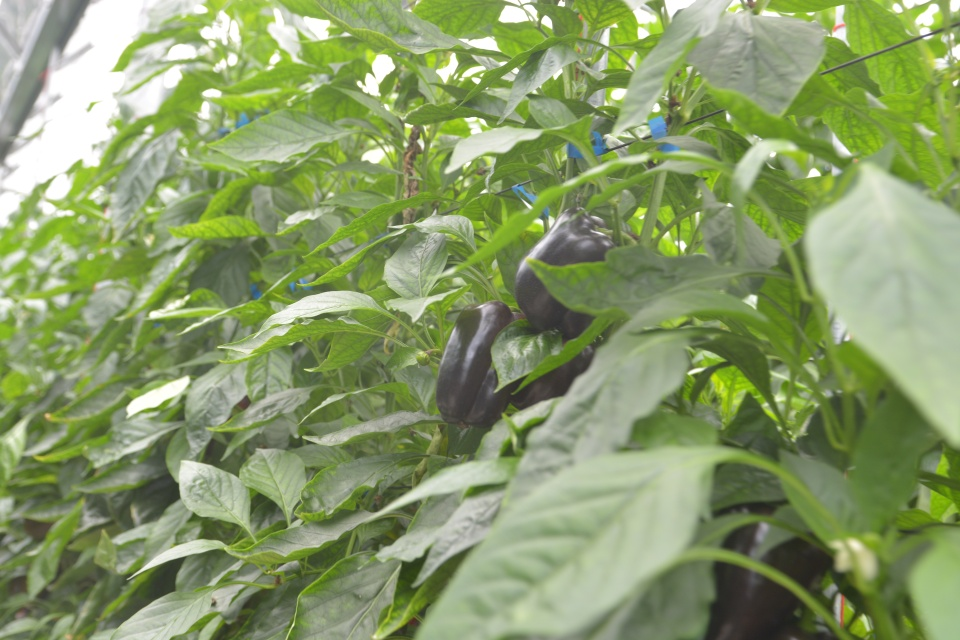fruit: (704, 500, 833, 640), (514, 205, 616, 339), (435, 300, 524, 428), (509, 339, 593, 410)
pedicle: (593, 225, 610, 238)
